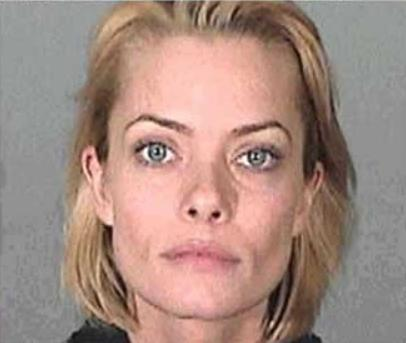Drunk: (125, 36, 292, 321)
